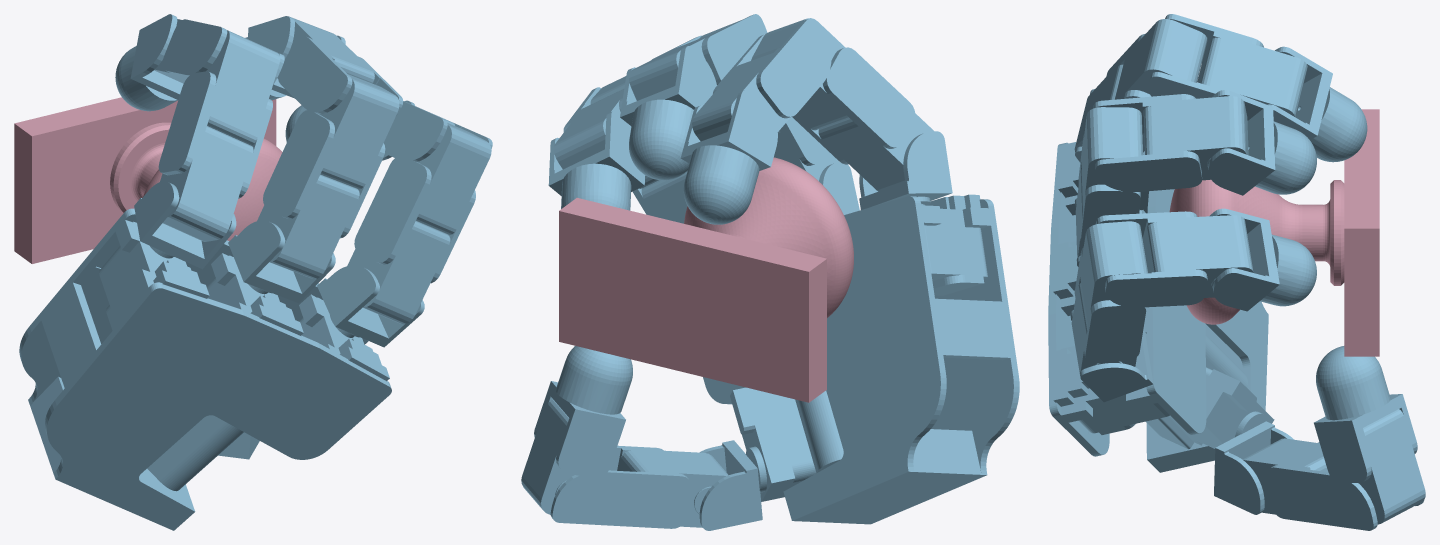
3 views of the same model, side by side, from view 1: azimuth 30°, elevation 25°; view 2: azimuth 150°, elevation 25°; view 3: azimuth 270°, elevation 25° (orthographic). The views are drawn at different scales.
Parts seen in each view (by area): view 1: world; view 2: world; view 3: world.
Boxes of the visible parts, x1,y1,x2,y2 form: world: [14, 14, 492, 530]; world: [521, 14, 1019, 530]; world: [1048, 14, 1425, 530].
Size of the model in its own units: 0.1757 by 0.1898 by 0.1338.
